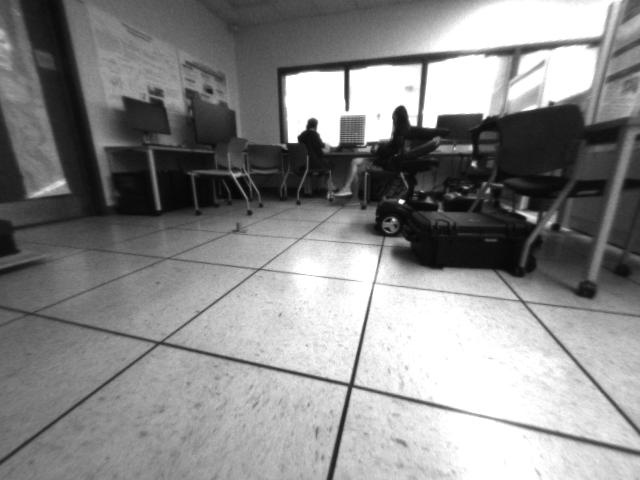x: (229, 222, 249, 233)
